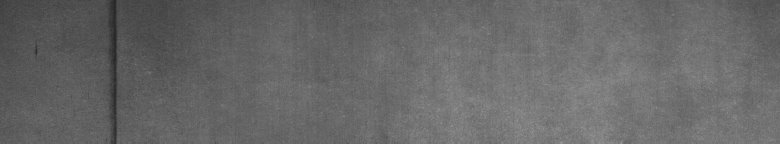hd: (103, 4, 128, 136)
